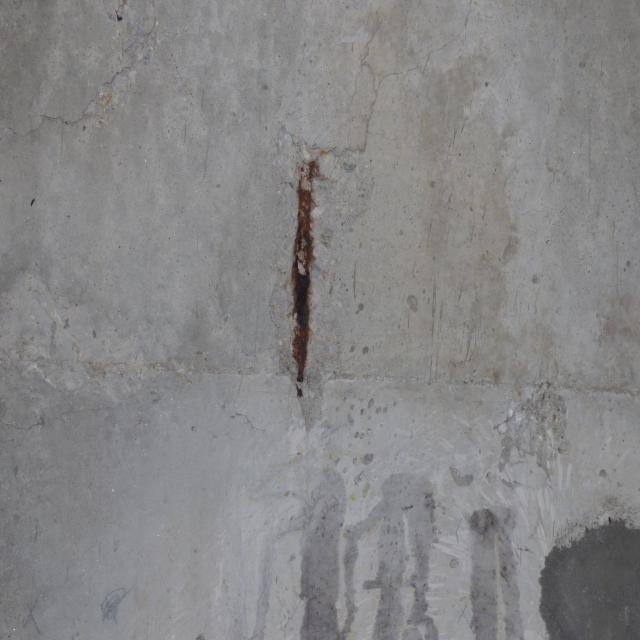corrosion: (275, 147, 338, 424)
